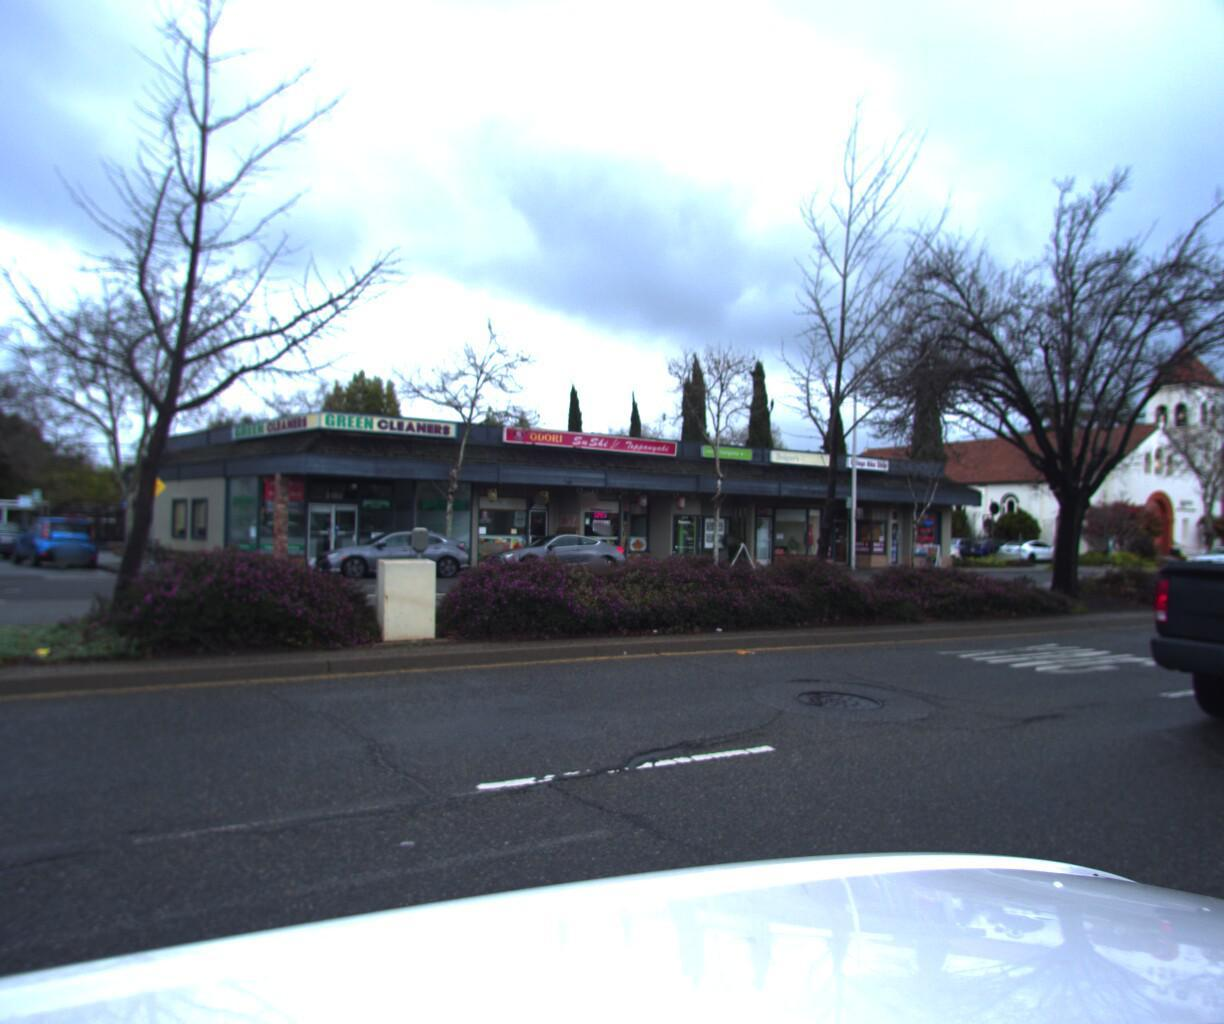car: (1116, 484, 1224, 815), (305, 529, 476, 586), (474, 529, 636, 580), (6, 518, 110, 575), (990, 528, 1063, 554), (0, 524, 34, 571), (1179, 532, 1224, 558)
